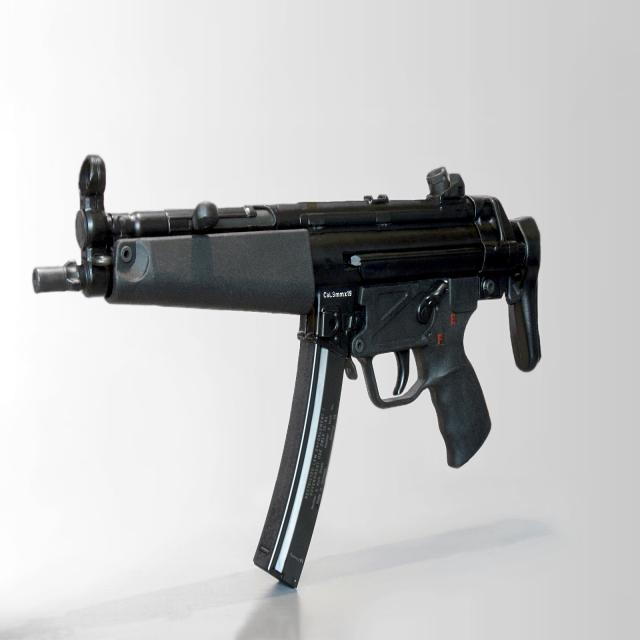SMG: (30, 156, 544, 591)
